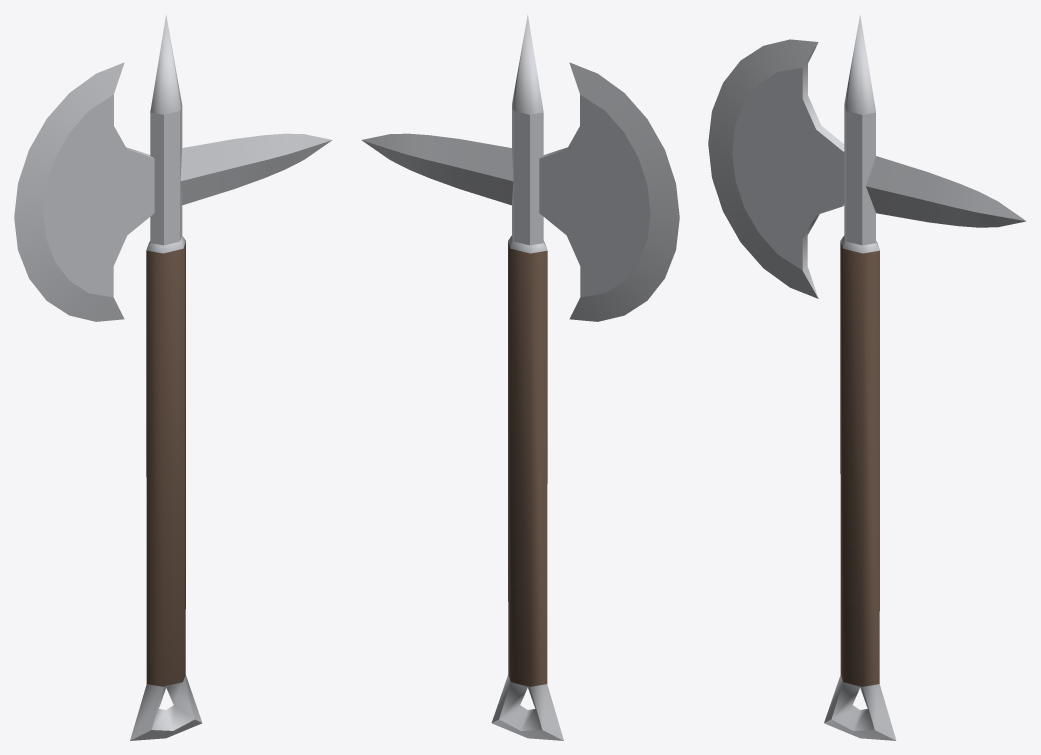
File: Weapon_Axe.glb
The picture shows the model from 3 angles, left to right: view 1: azimuth 30°, elevation 25°; view 2: azimuth 150°, elevation 25°; view 3: azimuth 330°, elevation 25°; orthographic projection.
Visible parts, largest first — view 1: Weapon_Axe; view 2: Weapon_Axe; view 3: Weapon_Axe.
Boxes of the visible parts, bbox=[...] form: Weapon_Axe: bbox=[14, 14, 332, 740]; Weapon_Axe: bbox=[361, 14, 679, 740]; Weapon_Axe: bbox=[708, 14, 1026, 740].
Bounding box in the file's own units: 0.4374 × 0.95 × 0.0346.
